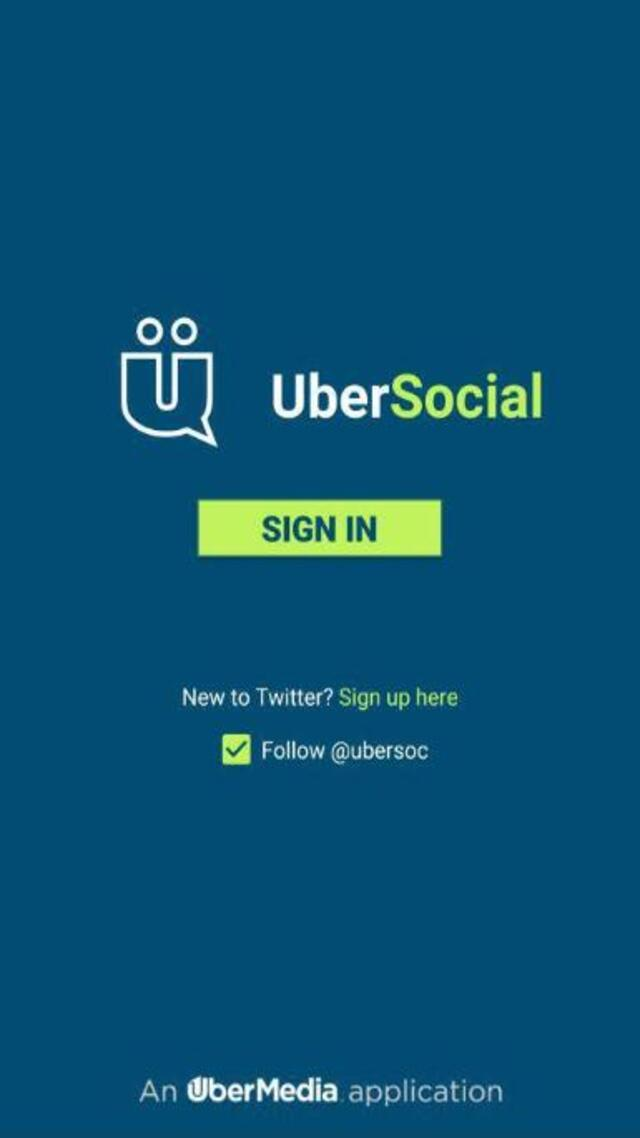CheckedTextView: (221, 734, 427, 764)
Image: (273, 370, 542, 419), (120, 316, 218, 448), (139, 1075, 503, 1105)
Text: (181, 684, 457, 709), (264, 740, 428, 764), (260, 512, 379, 544)
TextButton: (198, 498, 440, 555)
